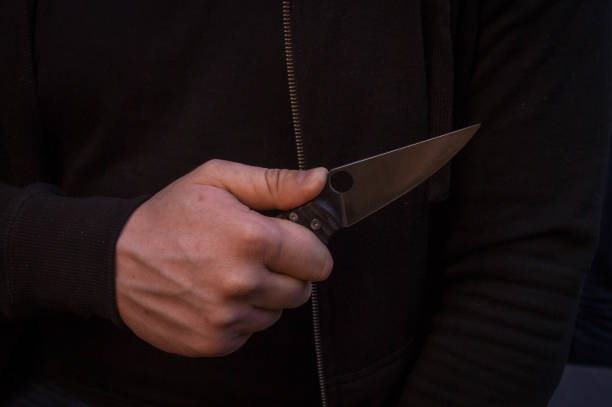knife: (220, 119, 482, 252)
